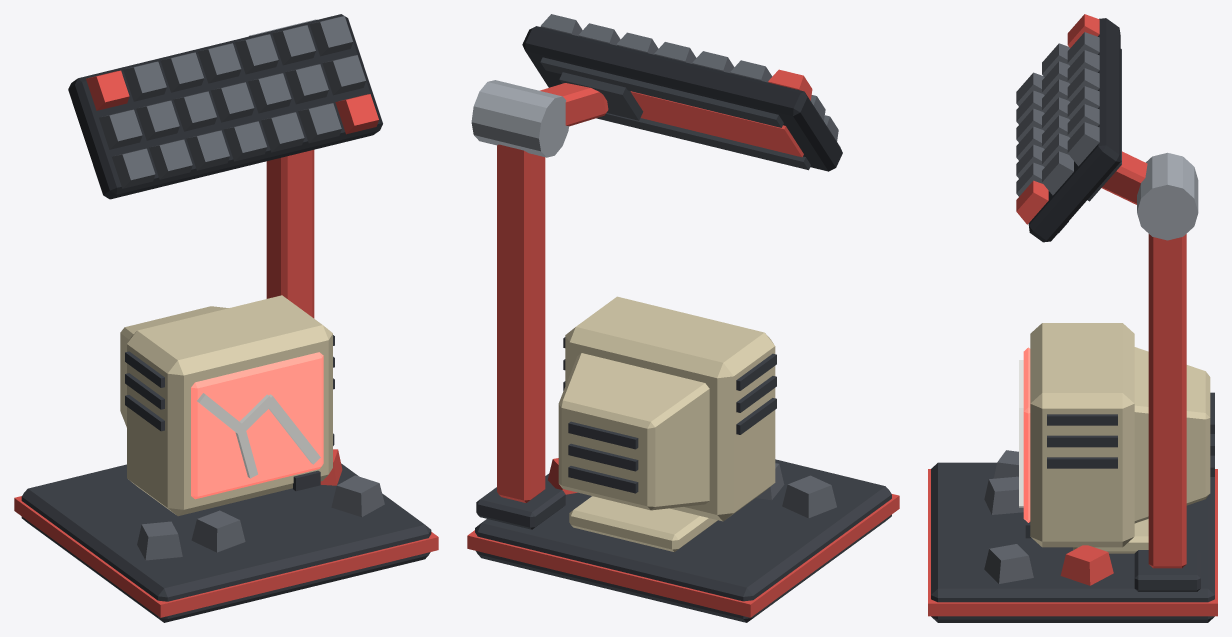
The model's file is keyboardsmash_core.glb.
The picture shows the model from 3 angles, left to right: view 1: azimuth 30°, elevation 25°; view 2: azimuth 150°, elevation 25°; view 3: azimuth 270°, elevation 25°; orthographic projection. The views are drawn at different scales.
Parts seen in each view (by area): view 1: keyboardsmash_core_mesh; view 2: keyboardsmash_core_mesh; view 3: keyboardsmash_core_mesh.
Part boxes in pixels (x1,y1,x2,y2): keyboardsmash_core_mesh: [14, 14, 438, 622]; keyboardsmash_core_mesh: [467, 14, 899, 622]; keyboardsmash_core_mesh: [928, 14, 1217, 622].
Bounding box in the file's own units: 0.686 × 1.13 × 0.612.
